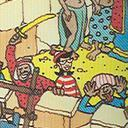waldo: (45, 43, 84, 104)
